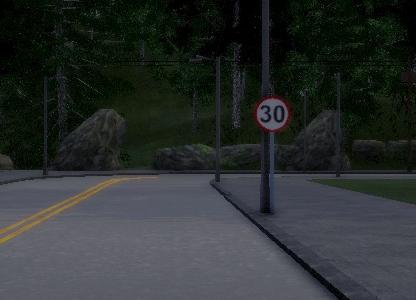Speed_30: (253, 94, 293, 132)
